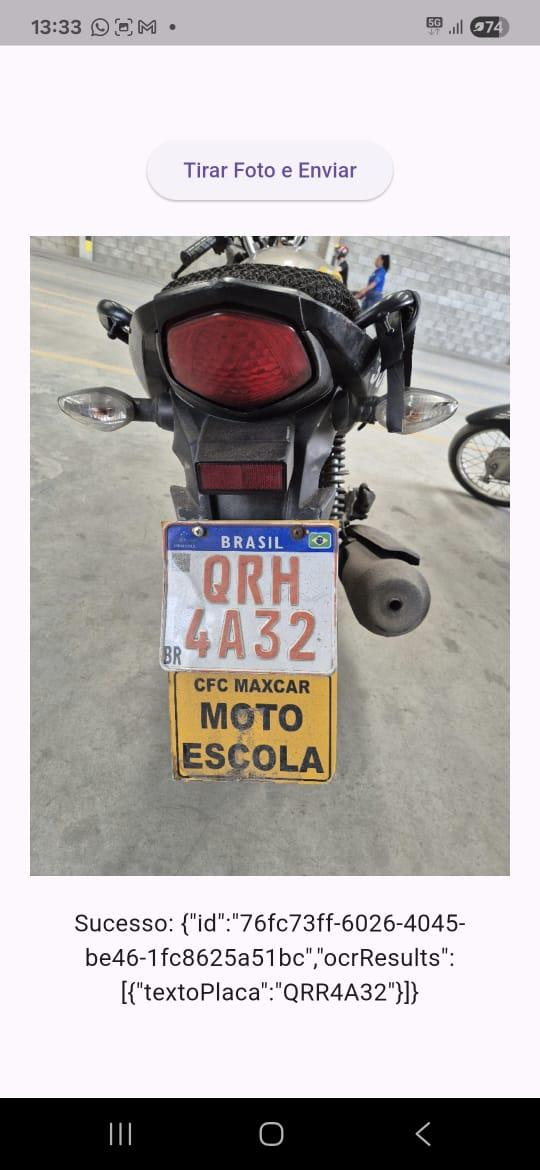placa_mercosul: (160, 522, 337, 679)
